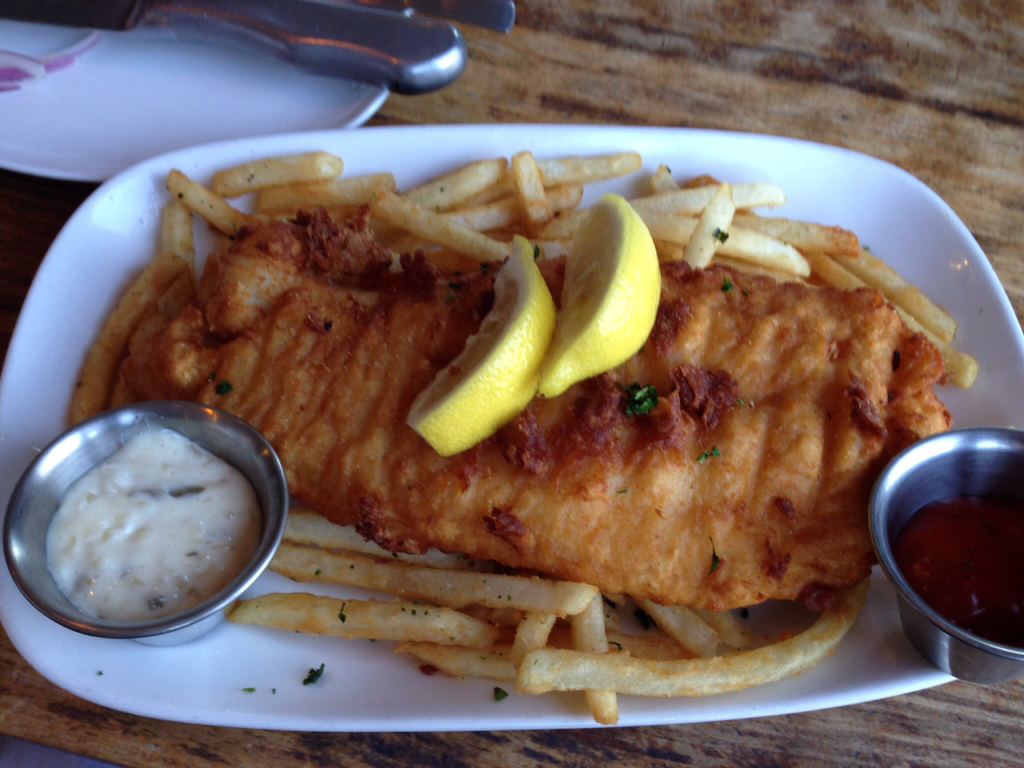French fries: (66, 138, 978, 435), (227, 506, 874, 730)
